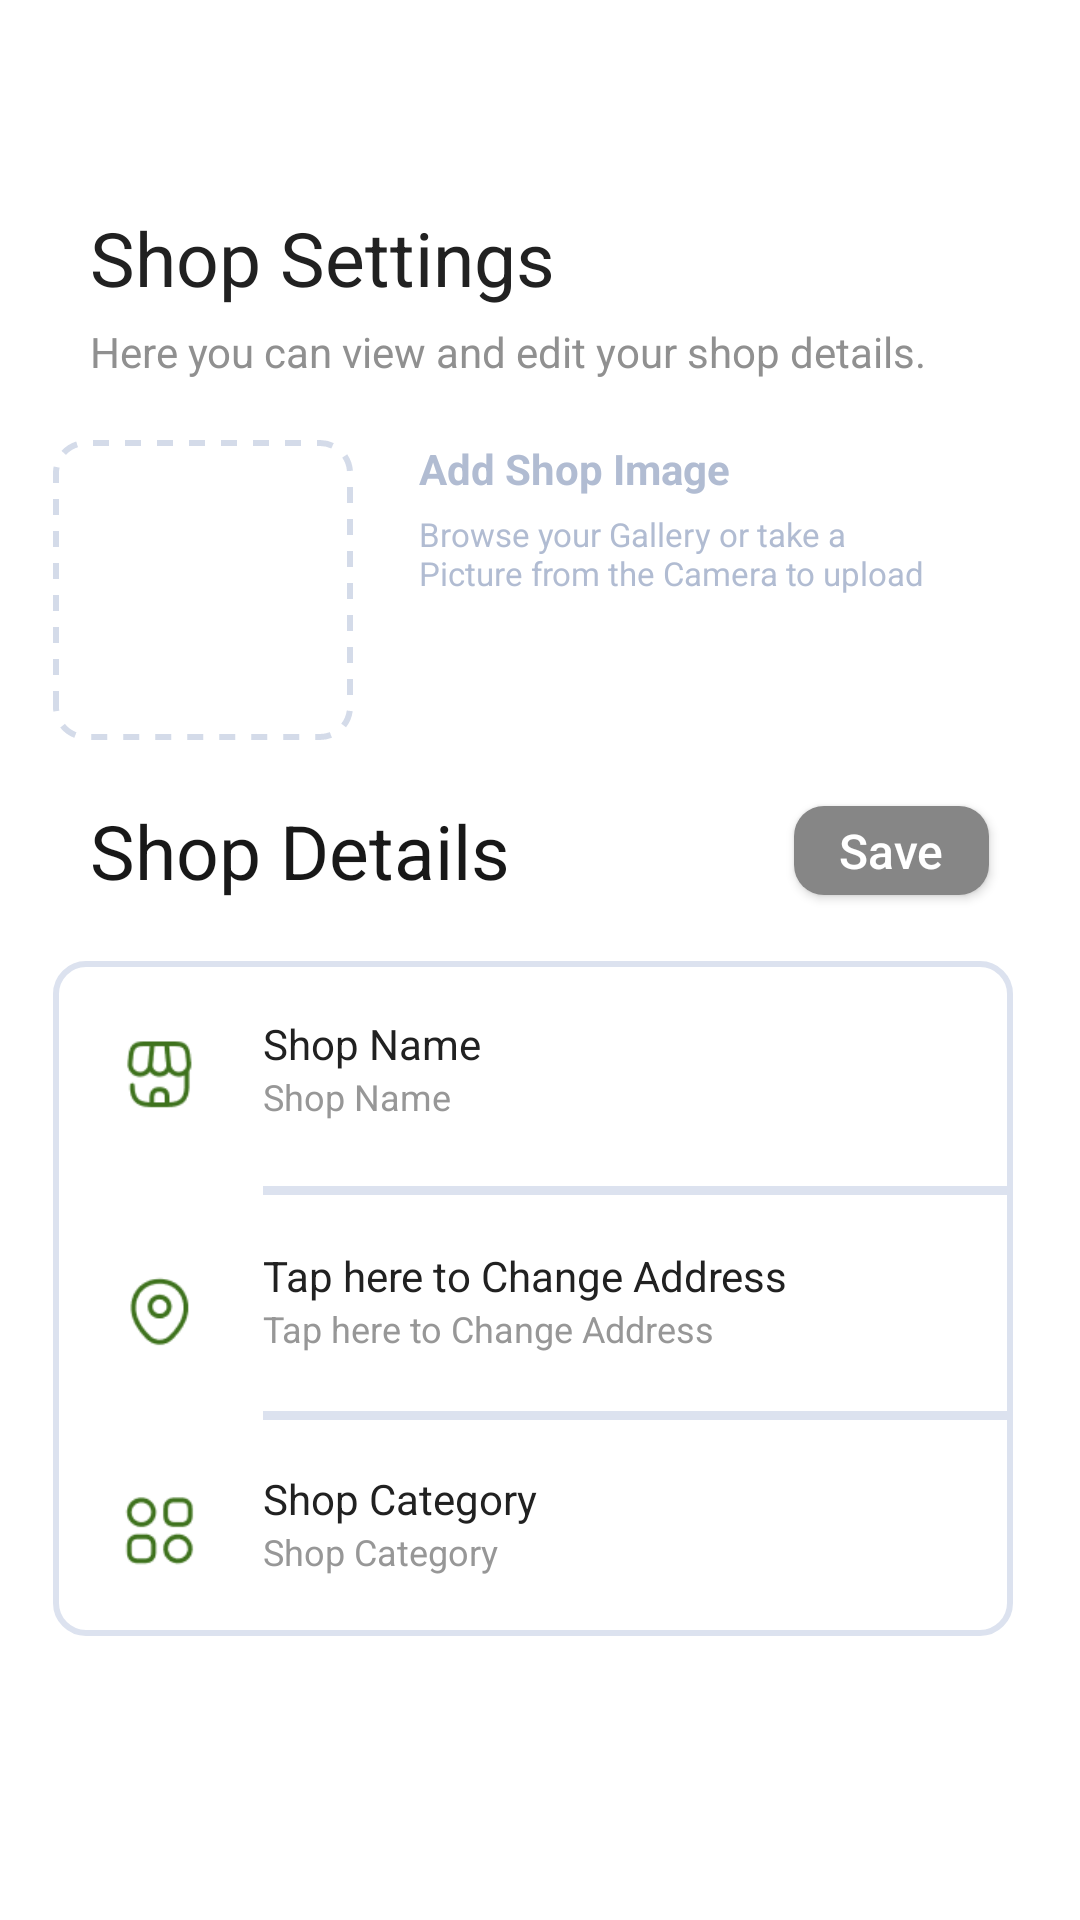

Locate icon controls on the screen. Image size 1080×1920, boxes as Rect(x1, y1, x2, y2).
catic: Rect(126, 1497, 193, 1565)
locic: Rect(130, 1278, 189, 1345)
shopic: Rect(127, 1041, 192, 1108)
